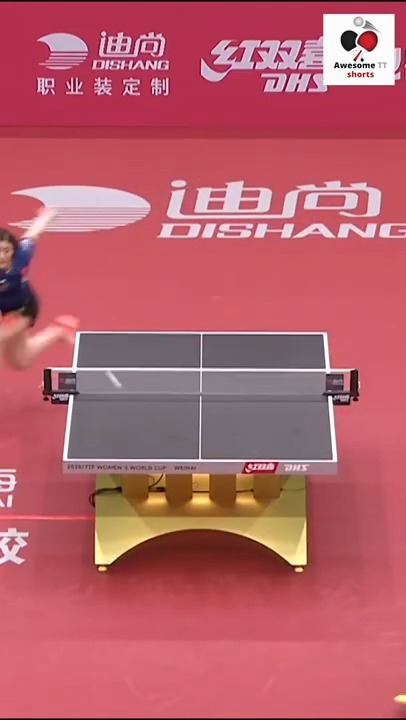Ball: (108, 374, 124, 390)
